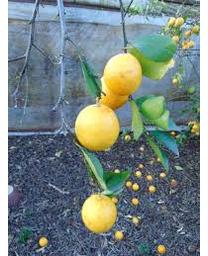lemon: (75, 104, 120, 150), (104, 54, 143, 95), (82, 194, 118, 233)
